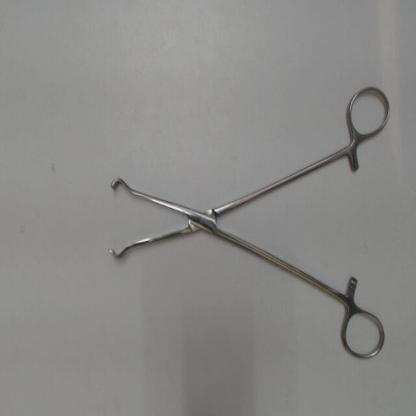8 Babcock Tissue Forceps: (103, 77, 393, 365)
